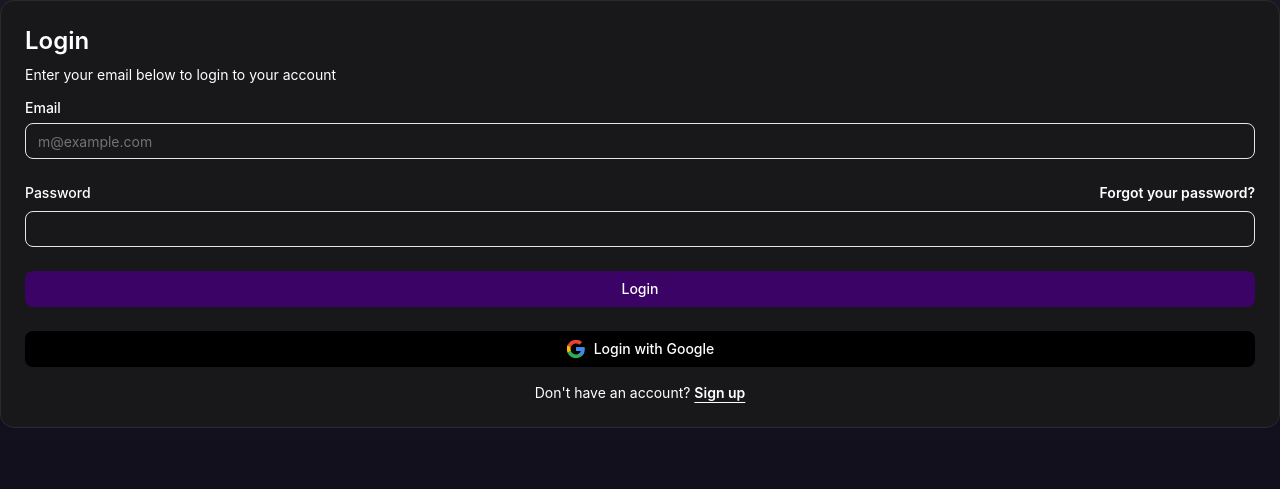
Test: LoginForm Component › displays error message when provided
Type "test@example.com" into the field labelled "Email".
click(640, 141); type("test@example.com")  # box x1=25 y1=123 x2=1255 y2=159
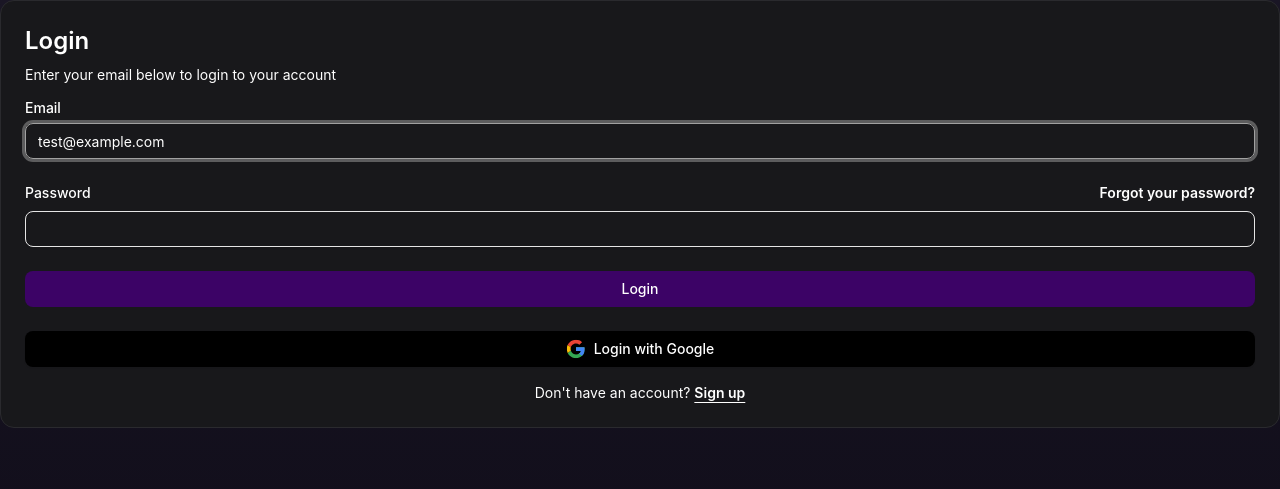
Type "wrongpassword" into the password field labelled "Password".
click(640, 229); type("wrongpassword")  # box x1=25 y1=211 x2=1255 y2=247
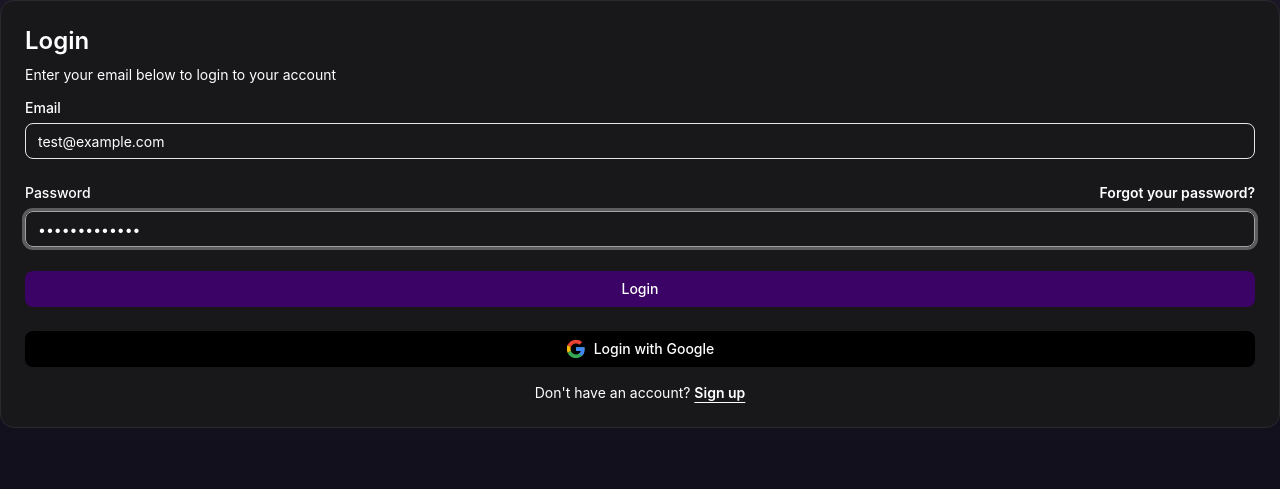
Click the button "Login".
click(640, 289)  # box x1=25 y1=271 x2=1255 y2=307
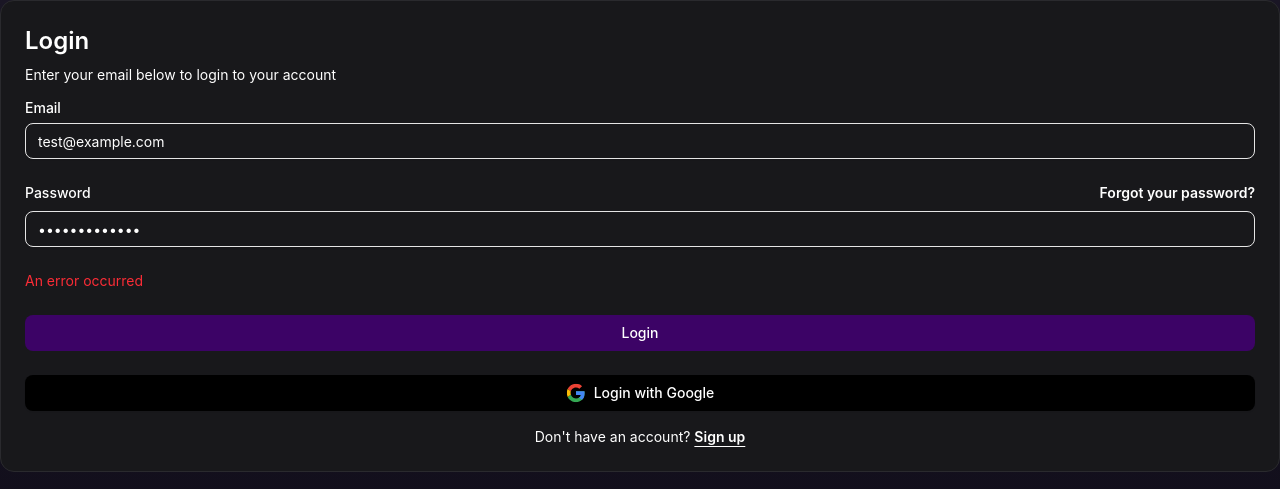
Check: the text "An error occurred" is shown, box x1=25 y1=272 x2=143 y2=289
